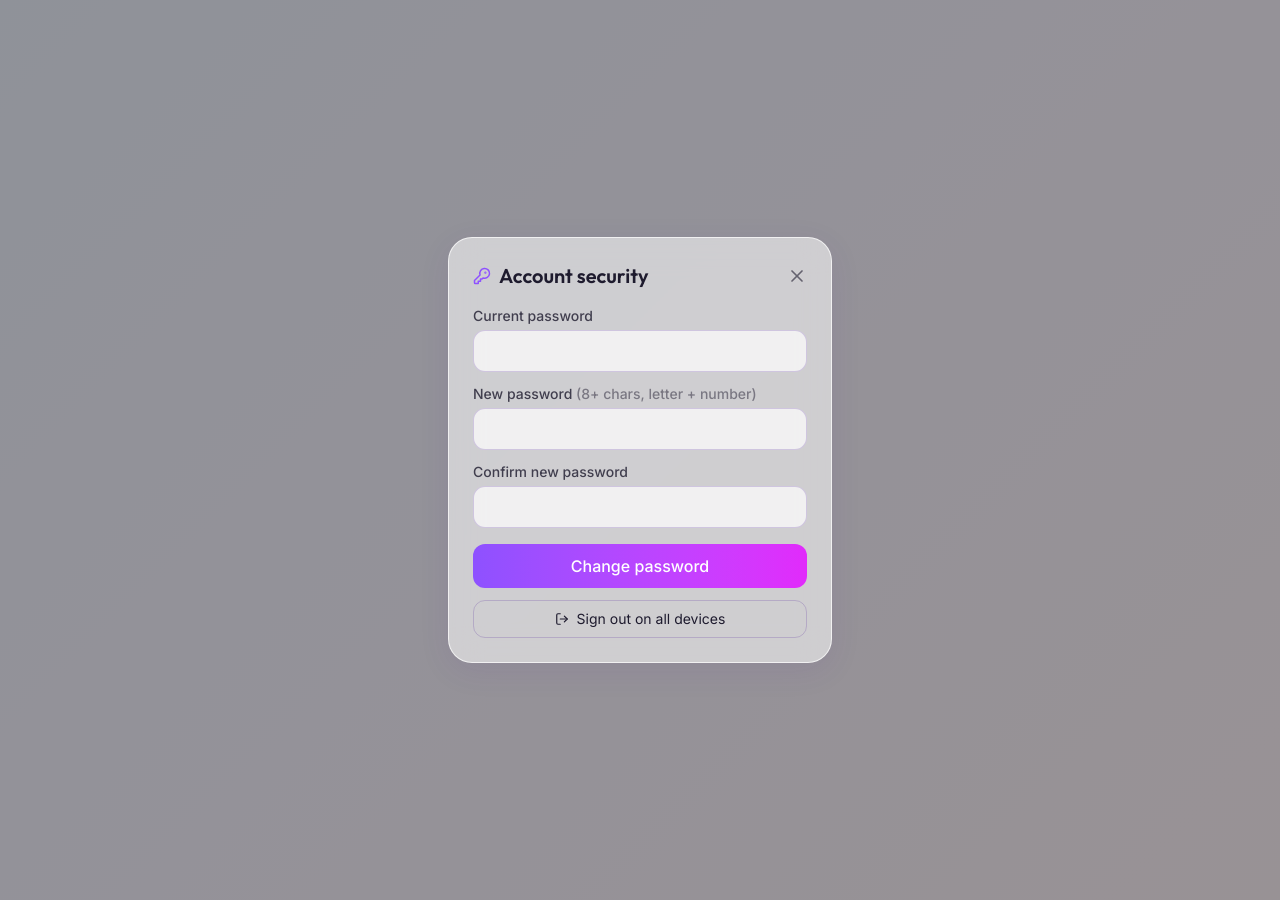
Test case: ChangePassword dialog › detects mismatched confirmation
In the password field labelled "Current password": (640, 351) [473,330,807,372], type "oldpass123"
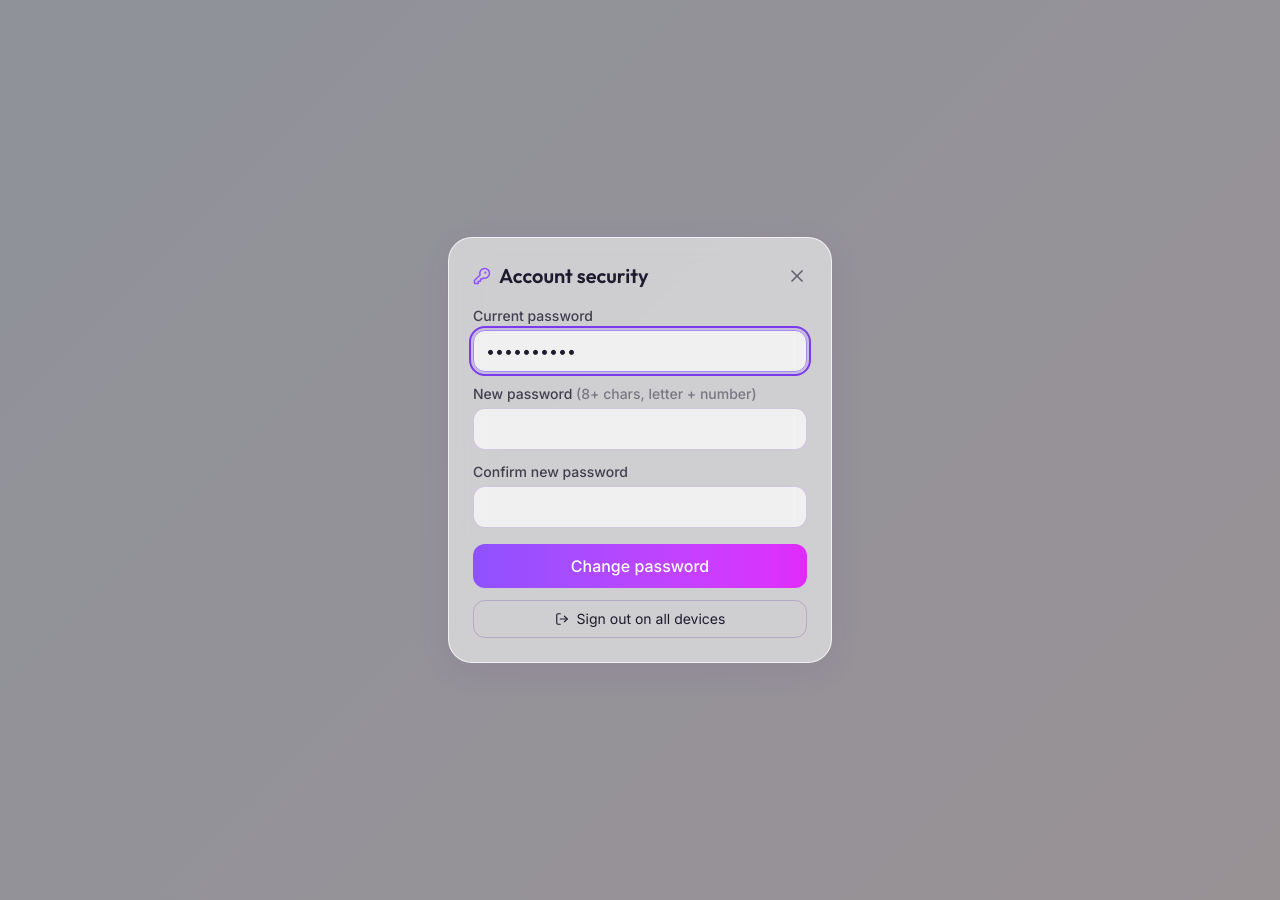
In the password field labelled "New password (8+ chars, letter + number)": (640, 429) [473,408,807,450], type "newpass123"
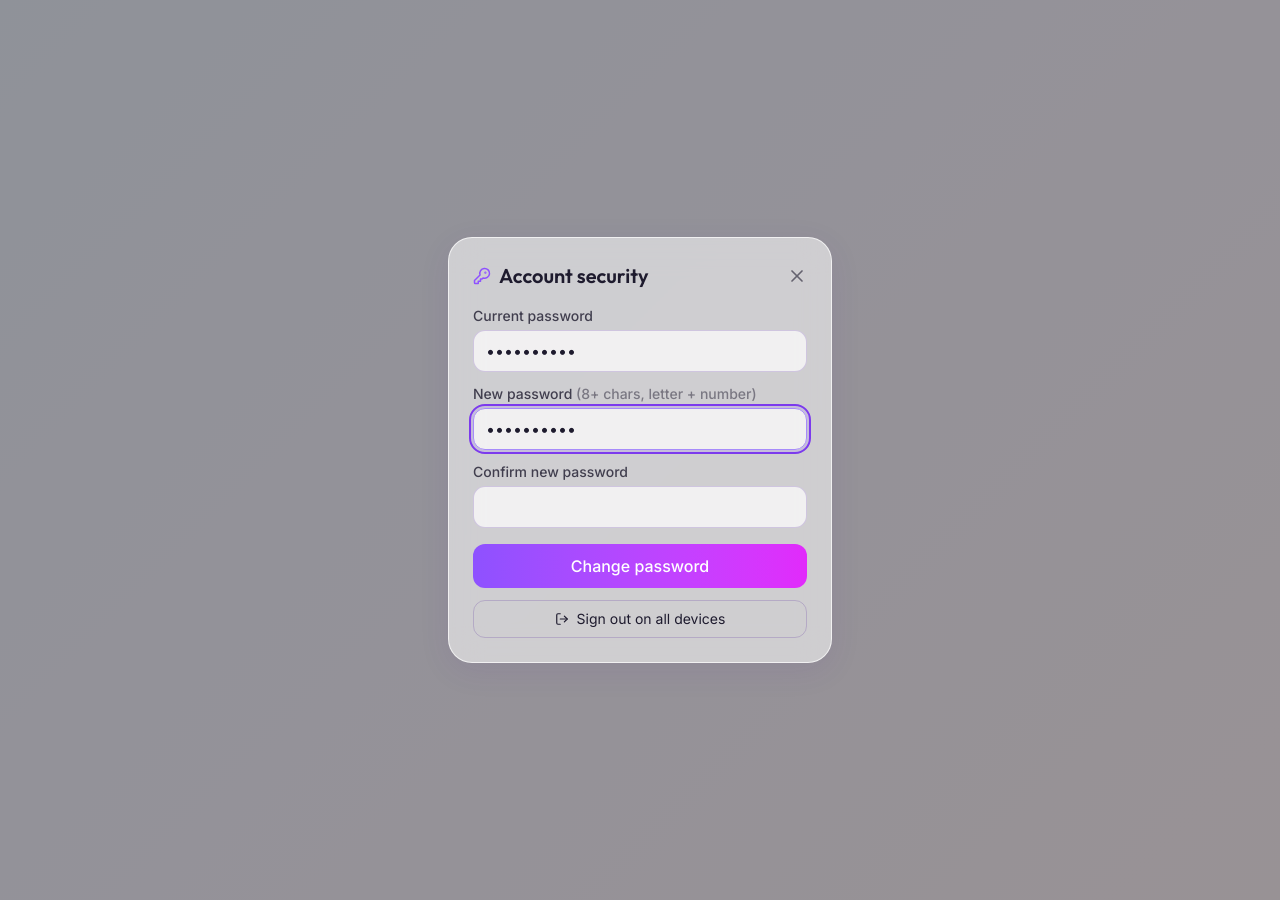
In the password field labelled "Confirm new password": (640, 507) [473,486,807,528], type "different123"
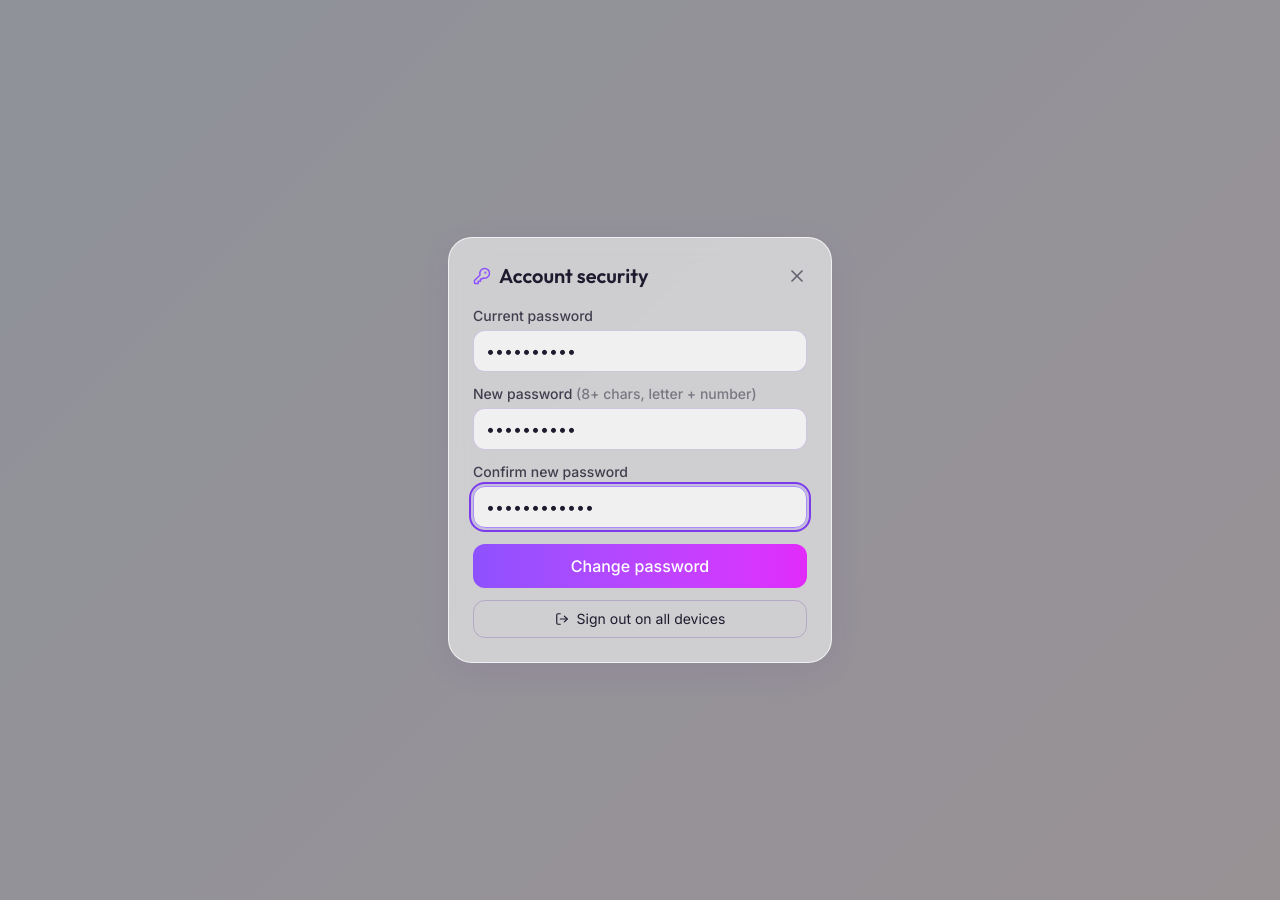
Click the button "Change password": click(640, 566) [473,544,807,588]
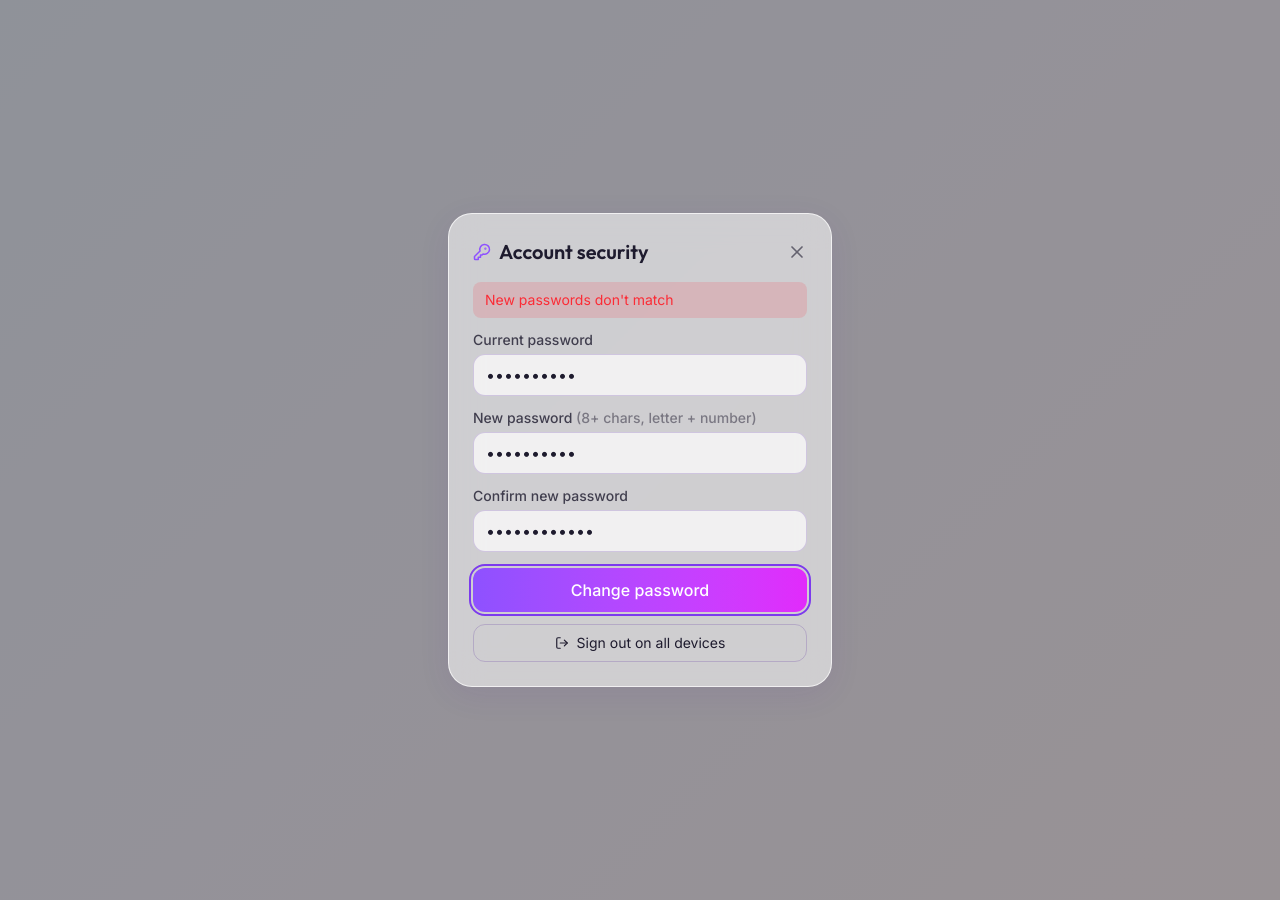
Expected: the message shows "don't match", [485,291,674,308]
